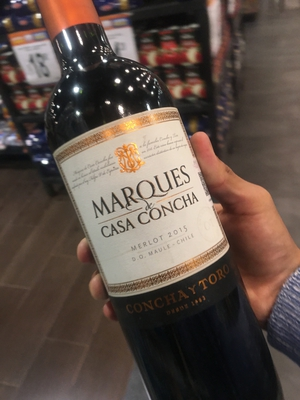marques de casa concha merlot: (37, 8, 265, 378)
